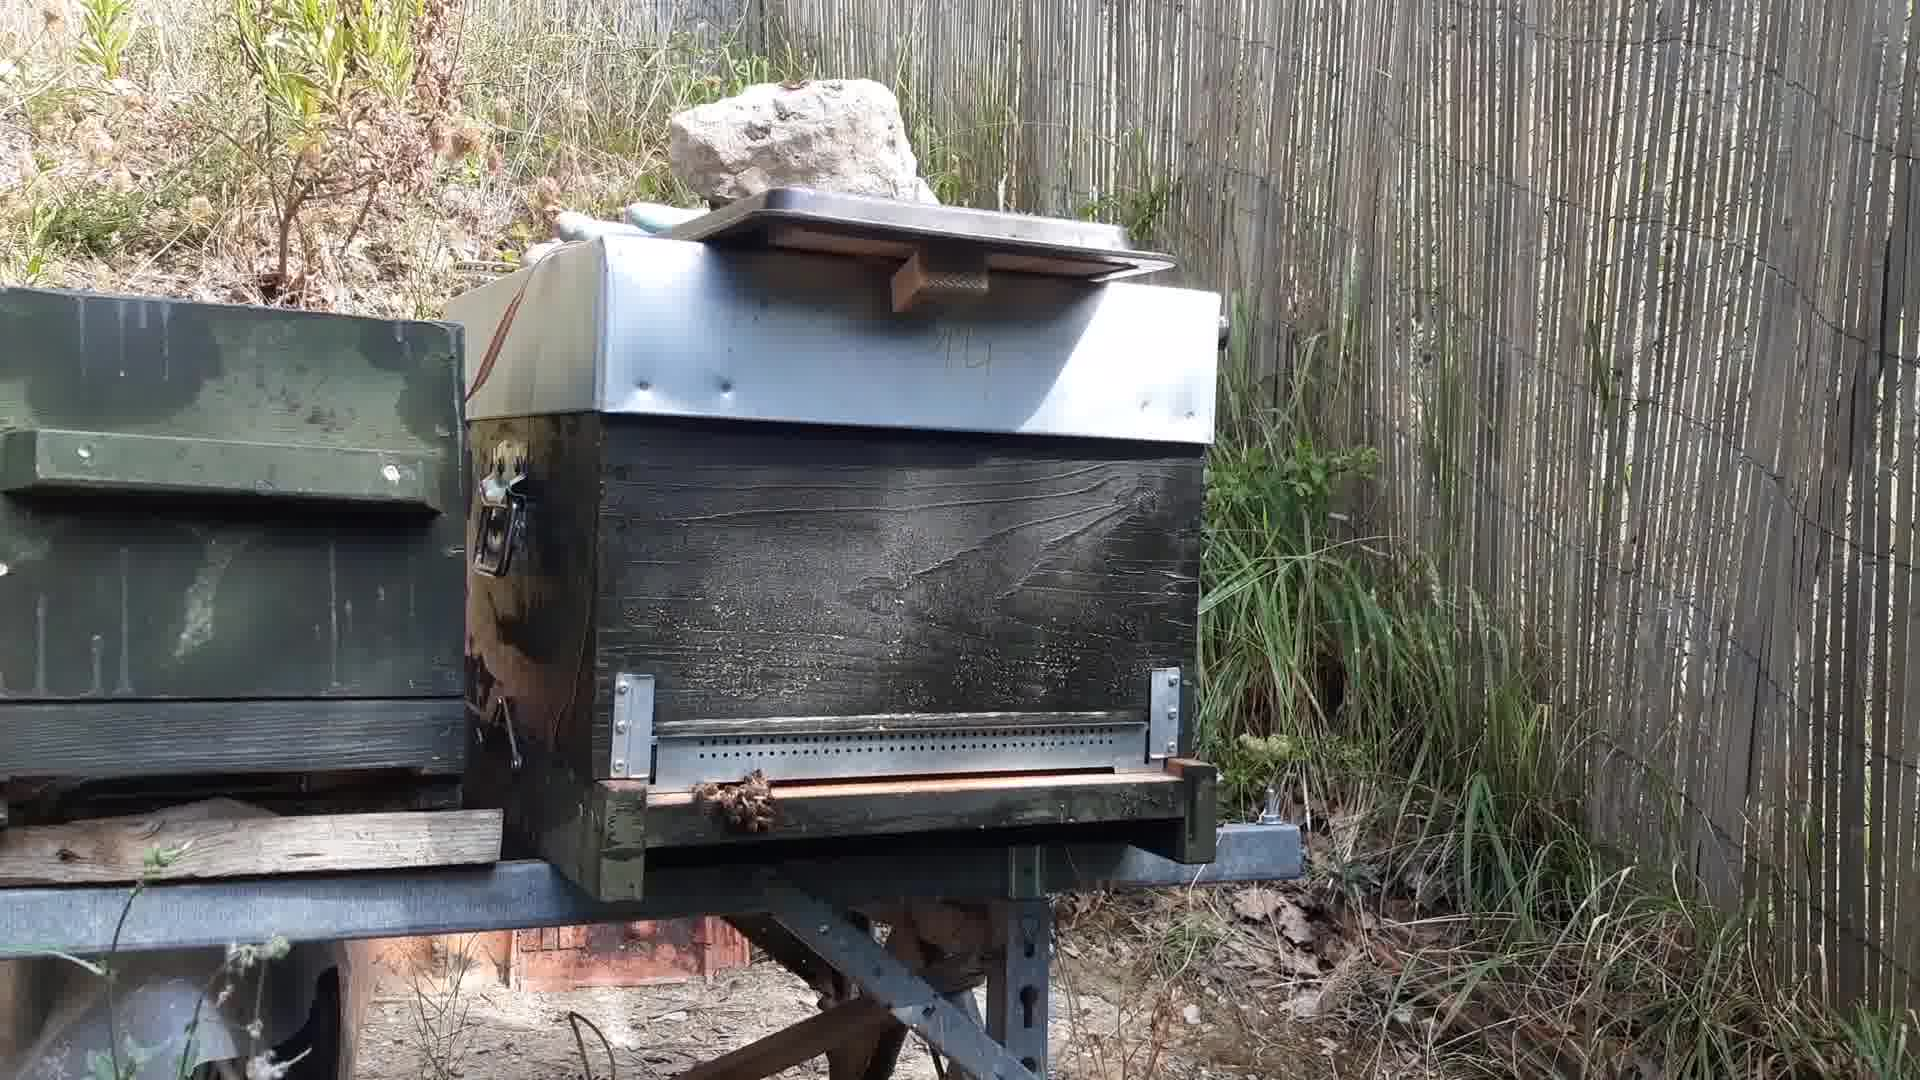bee: (723, 766, 777, 832), (684, 778, 723, 807)
